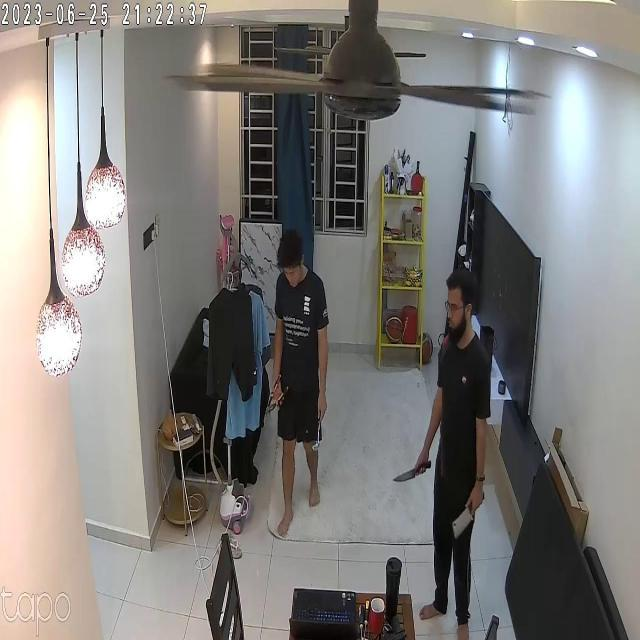Knife: (445, 502, 502, 549), (390, 454, 437, 492)
